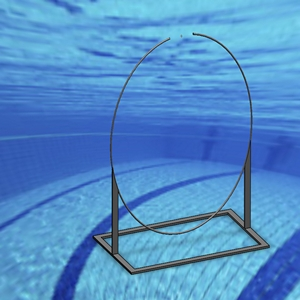circle: (108, 32, 253, 235), (89, 208, 270, 274)
